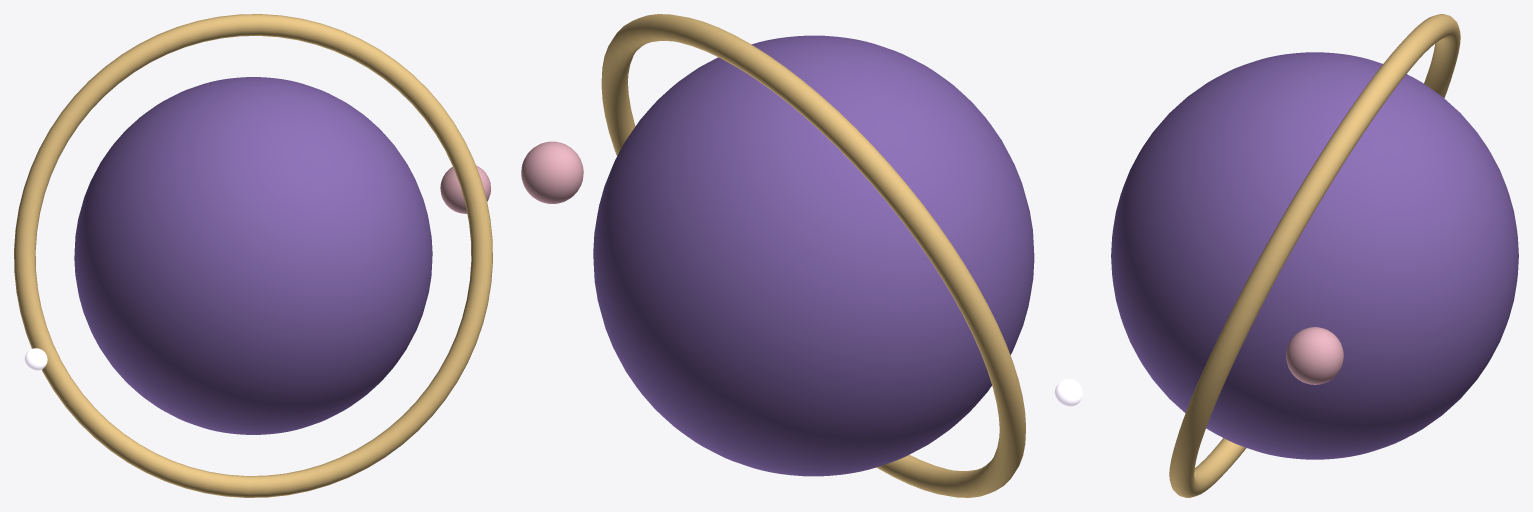
The model's file is mentally-prepare-orbit.glb.
3 views of the same model, side by side, from view 1: azimuth 30°, elevation 25°; view 2: azimuth 150°, elevation 25°; view 3: azimuth 270°, elevation 25° (orthographic). The views are drawn at different scales.
Visible parts, largest first — view 1: Private World, Twenty One Night Orbit, Rose Satellite; view 2: Private World, Twenty One Night Orbit, Rose Satellite, Ink Satellite; view 3: Private World, Twenty One Night Orbit, Rose Satellite.
Boxes of the visible parts, x1,y1,x2,y2 form: Private World: (74, 77, 432, 434); Twenty One Night Orbit: (14, 14, 492, 497); Rose Satellite: (440, 165, 490, 213); Private World: (593, 35, 1034, 476); Twenty One Night Orbit: (601, 14, 1025, 497); Rose Satellite: (521, 141, 583, 203); Ink Satellite: (1054, 379, 1082, 407); Private World: (1111, 52, 1518, 459); Twenty One Night Orbit: (1169, 14, 1460, 497); Rose Satellite: (1286, 327, 1343, 384).
Bounding box in the file's own units: 4.56 × 3.88 × 3.1.
